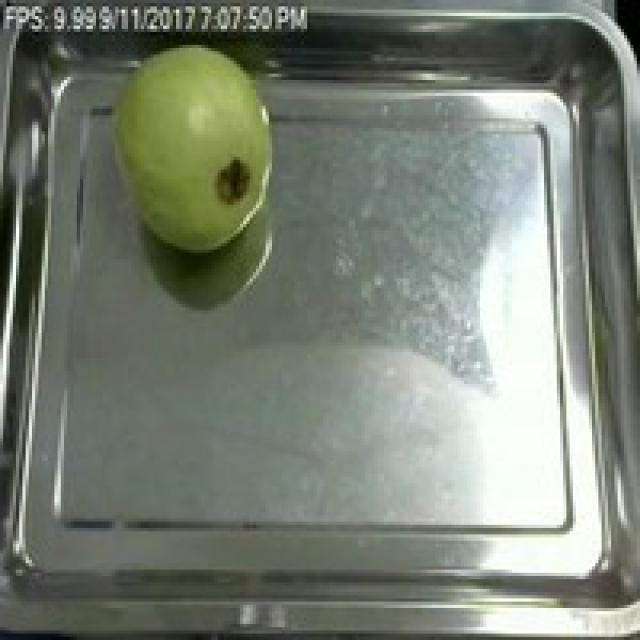Fruit: (102, 32, 288, 266)
